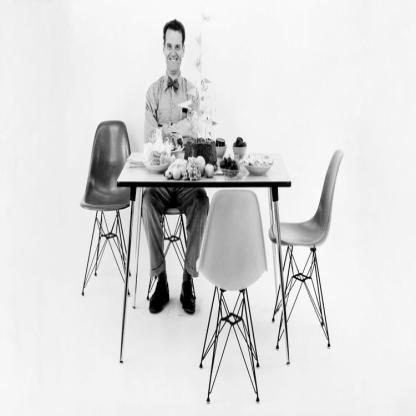chair: (199, 193, 263, 413)
